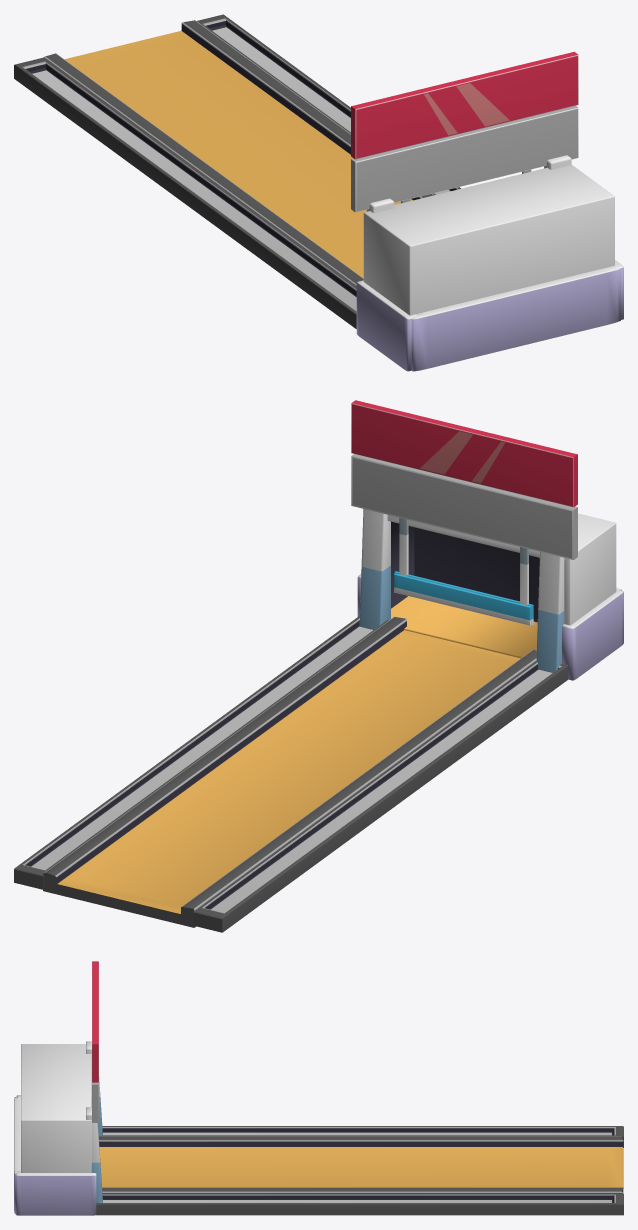
Rendered from BowlingArea.fbx.
The picture shows the model from 3 angles, top to bottom: view 1: azimuth 30°, elevation 25°; view 2: azimuth 150°, elevation 25°; view 3: azimuth 270°, elevation 25°; orthographic projection. The views are drawn at different scales.
Parts seen in each view (by area): view 1: BowlingArea, Bowlingbox, BoxBackSide, RightSideLİne, RedPlane, GrayPlane, LeftSideLine; view 2: BowlingArea, Bowlingbox, RightSideLİne, RedPlane, GrayPlane, LeftSideLine, DubaMaker, BoxBackSide, BoxLeftüSide, BoxrightSide; view 3: BowlingArea, LeftSideLine, Bowlingbox, RightSideLİne, BoxBackSide, RedPlane, BoxLeftüSide.
Part boxes in pixels (box(x1,y1,x2,y2)): BowlingArea: box(43, 20, 433, 286); Bowlingbox: box(363, 165, 614, 315); BoxBackSide: box(356, 260, 623, 371); RightSideLİne: box(14, 57, 356, 328); RedPlane: box(351, 51, 578, 159); GrayPlane: box(351, 105, 578, 212); LeftSideLine: box(197, 14, 460, 195); BowlingArea: box(43, 616, 536, 927); Bowlingbox: box(387, 513, 616, 658); RightSideLİne: box(193, 661, 568, 932); RedPlane: box(351, 400, 577, 507); GrayPlane: box(351, 454, 577, 559); LeftSideLine: box(14, 616, 388, 889); DubaMaker: box(394, 517, 533, 625); BoxBackSide: box(357, 574, 623, 680); BoxLeftüSide: box(359, 509, 390, 629); BoxrightSide: box(536, 552, 564, 672); BowlingArea: box(98, 1136, 623, 1193); LeftSideLine: box(96, 1193, 623, 1215); Bowlingbox: box(21, 1044, 91, 1172); RightSideLİne: box(102, 1126, 623, 1147); BoxBackSide: box(14, 1095, 96, 1215); RedPlane: box(92, 961, 98, 1082); BoxLeftüSide: box(86, 1107, 102, 1202).
Bounding box in the file's own units: 660 × 648 × 2049.
